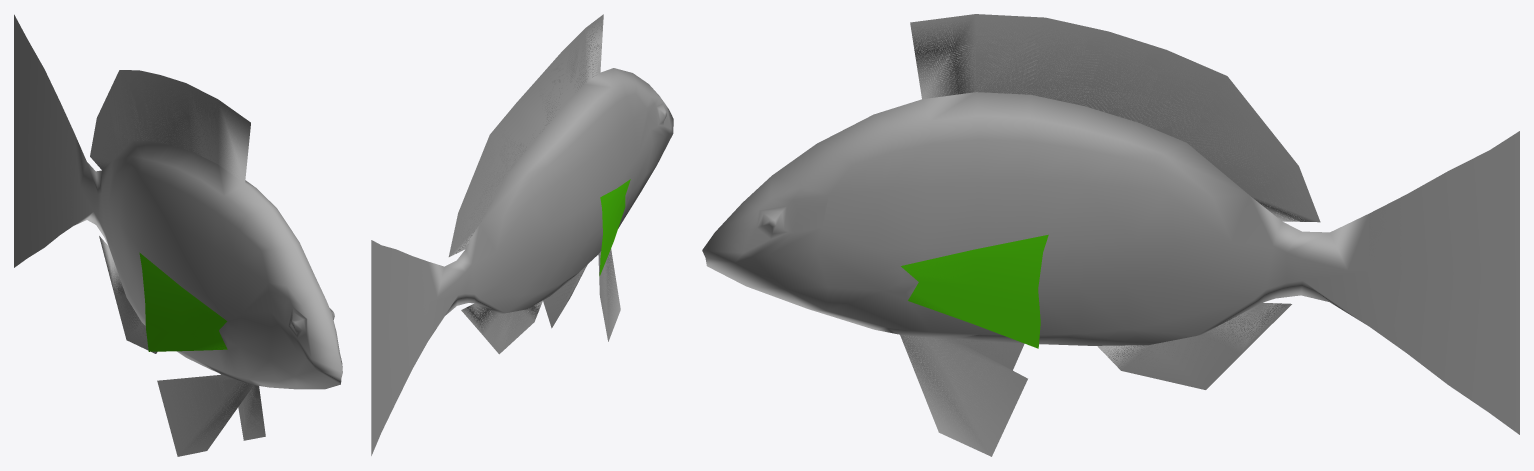
The model's file is Sparidae_A_S.fbx.
3 views of the same model, side by side, from view 1: azimuth 30°, elevation 25°; view 2: azimuth 150°, elevation 25°; view 3: azimuth 270°, elevation 25° (orthographic). The views are drawn at different scales.
Parts seen in each view (by area): view 1: Sparidae_A_S_Mesh; view 2: Sparidae_A_S_Mesh; view 3: Sparidae_A_S_Mesh.
Part boxes in pixels (x1,y1,x2,y2): Sparidae_A_S_Mesh: (14, 14, 342, 456); Sparidae_A_S_Mesh: (371, 14, 673, 455); Sparidae_A_S_Mesh: (702, 14, 1519, 456).
Bounding box in the file's own units: 0.00153 × 0.00566 × 0.0099.
